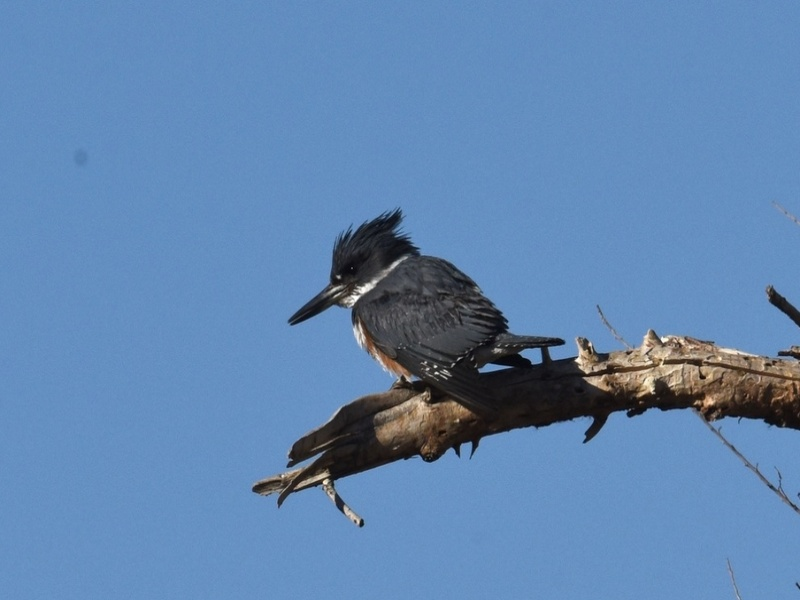kingfisher: (282, 208, 565, 409)
